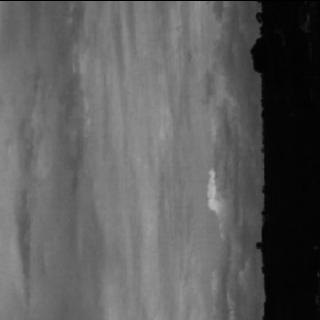Stratocumulus: (0, 0, 256, 320)
